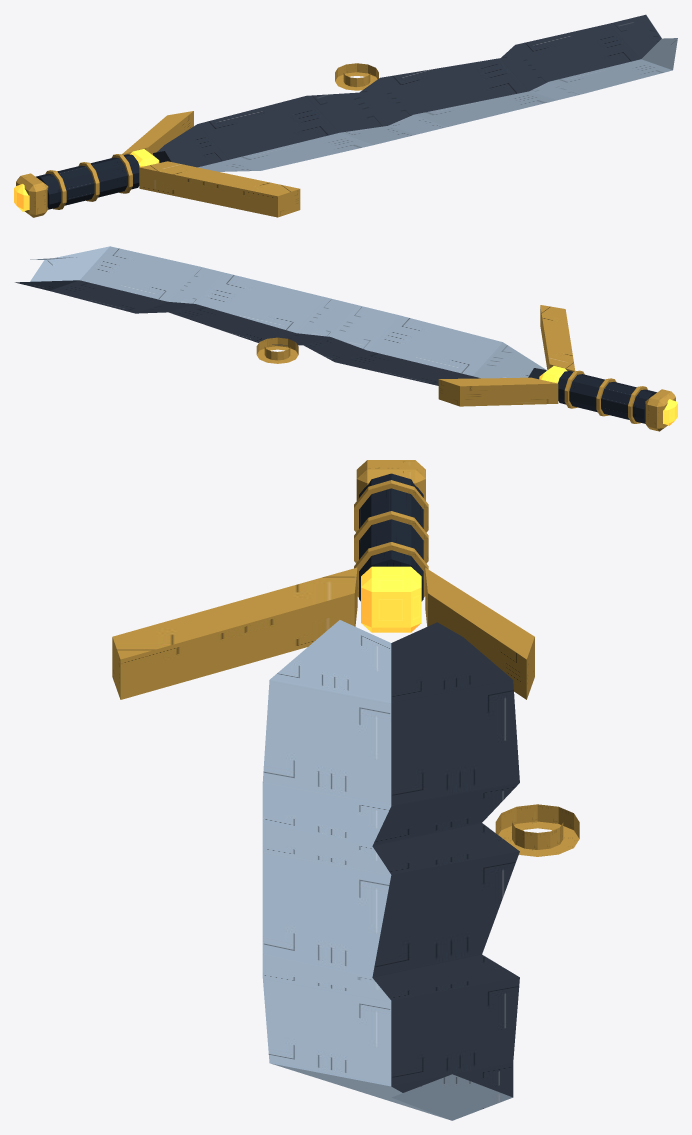
The model's file is cleaver.glb.
The picture shows the model from 3 angles, top to bottom: view 1: azimuth 30°, elevation 25°; view 2: azimuth 150°, elevation 25°; view 3: azimuth 270°, elevation 25°; orthographic projection. The views are drawn at different scales.
Parts seen in each view (by area): view 1: blade, guard, grip; view 2: blade, guard, grip; view 3: blade, guard, grip.
Part boxes in pixels (x1,y1,x2,y2): blade: (153,14,677,171); guard: (122,111,300,217); grip: (14,154,139,217); blade: (15,246,546,385); guard: (438,305,575,406); grip: (558,370,677,431); blade: (262,620,579,1120); guard: (112,566,534,699); grip: (354,460,428,601).
Size of the model in its own units: 1.08 by 0.058 by 0.345.
Materials: 5 (5 with a texture image).
